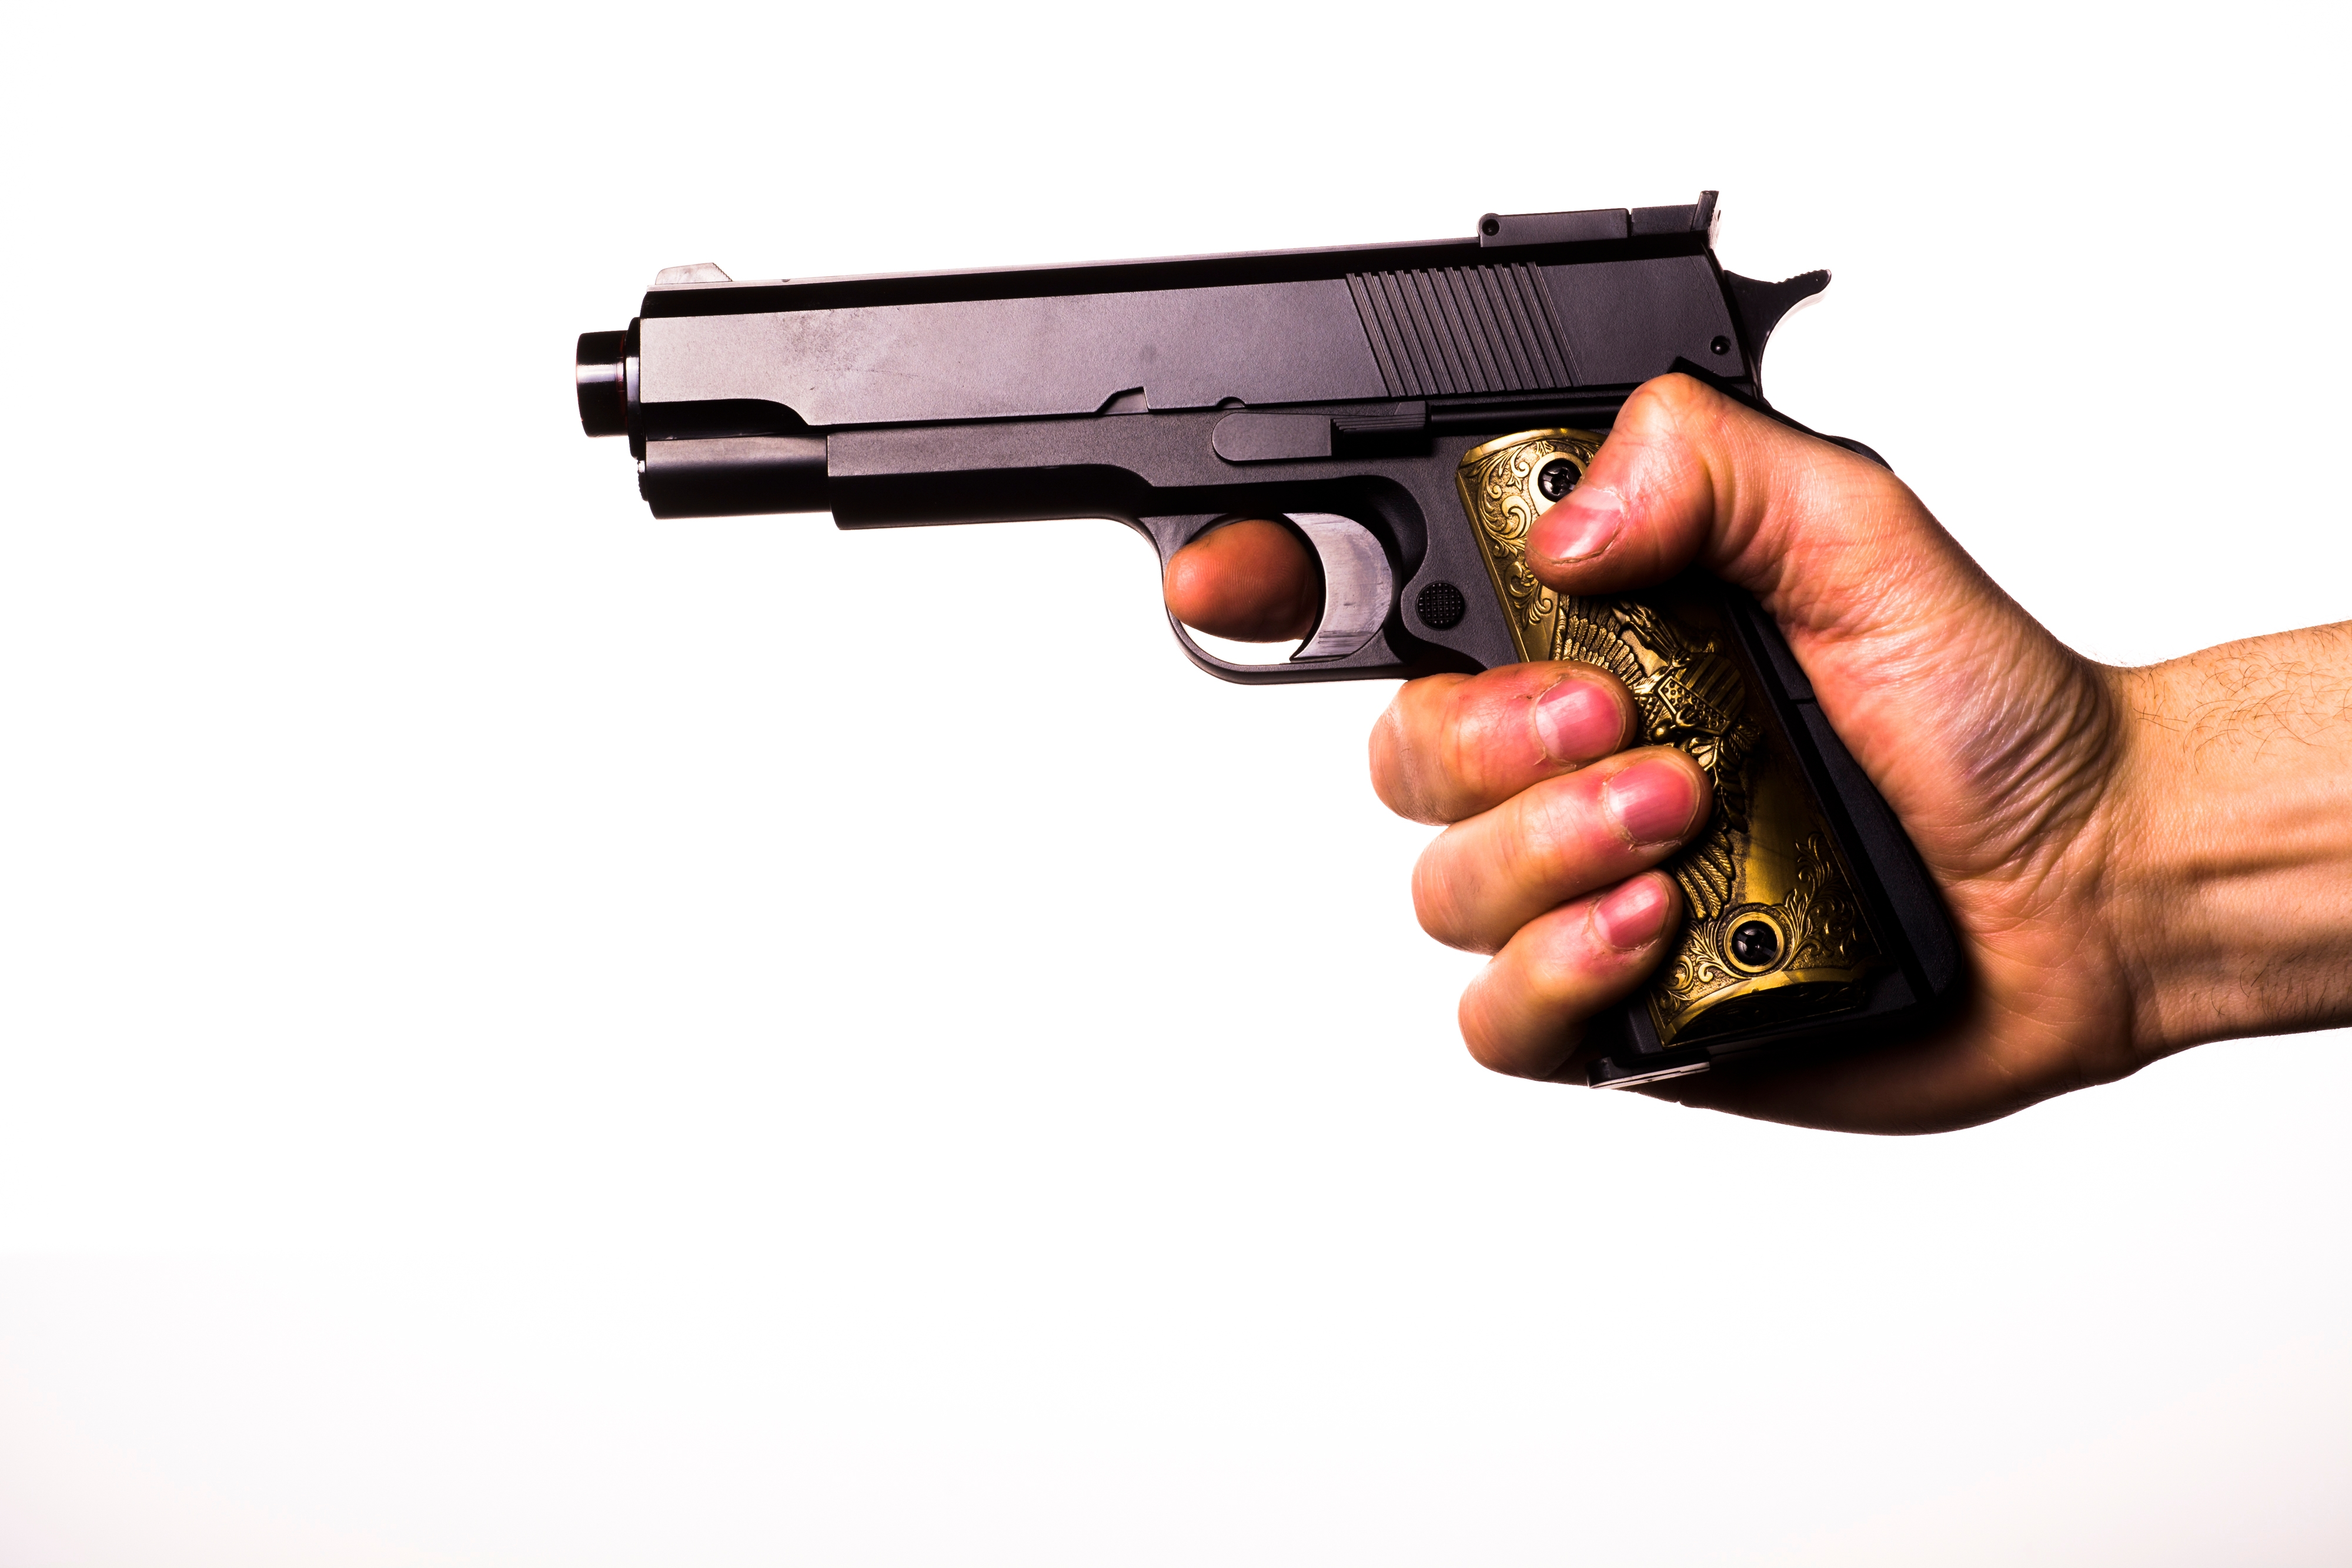pistol: (540, 157, 1976, 1100)
